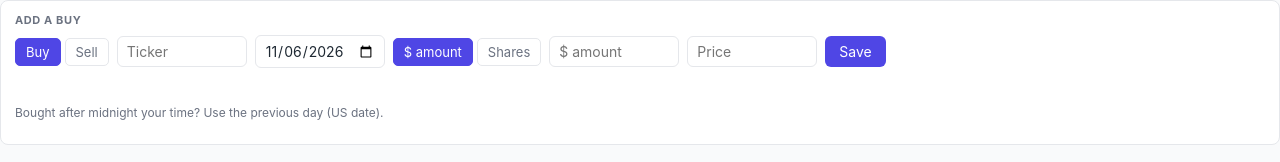
it: saving a buy by amount keeps ticker and date and clears the amount
The image size is (1280, 162).
Type "nvda" into the field labelled "Ticker".
click(182, 52); type("nvda")  # box x1=117 y1=36 x2=247 y2=67
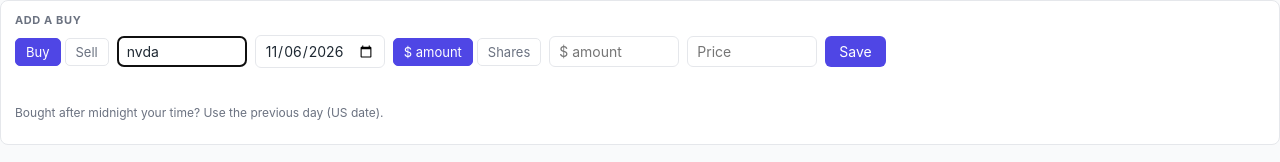
Press Tab
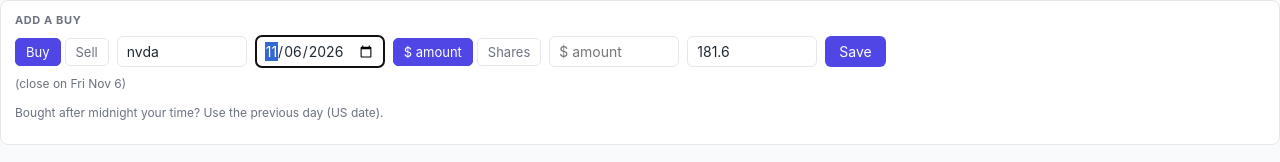
Result: the number field named "Price per share" holds "181.6" at x1=687 y1=36 x2=817 y2=67
Type "25" into the number field named "Amount in dollars".
click(614, 52); type("25")  # box x1=549 y1=36 x2=679 y2=67
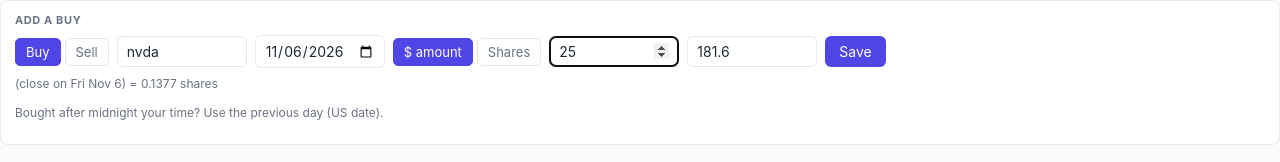
Click the button "Save".
click(856, 52)  # box x1=825 y1=36 x2=886 y2=67
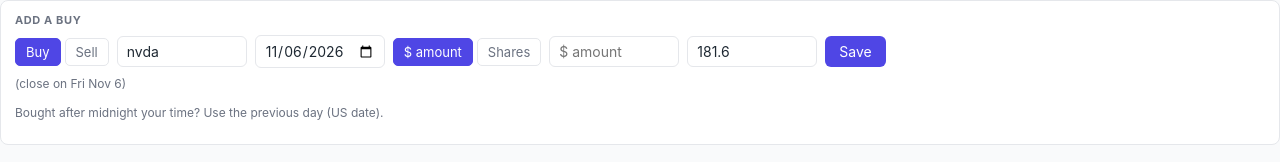
Result: the number field named "Amount in dollars" is not empty at x1=549 y1=36 x2=679 y2=67
